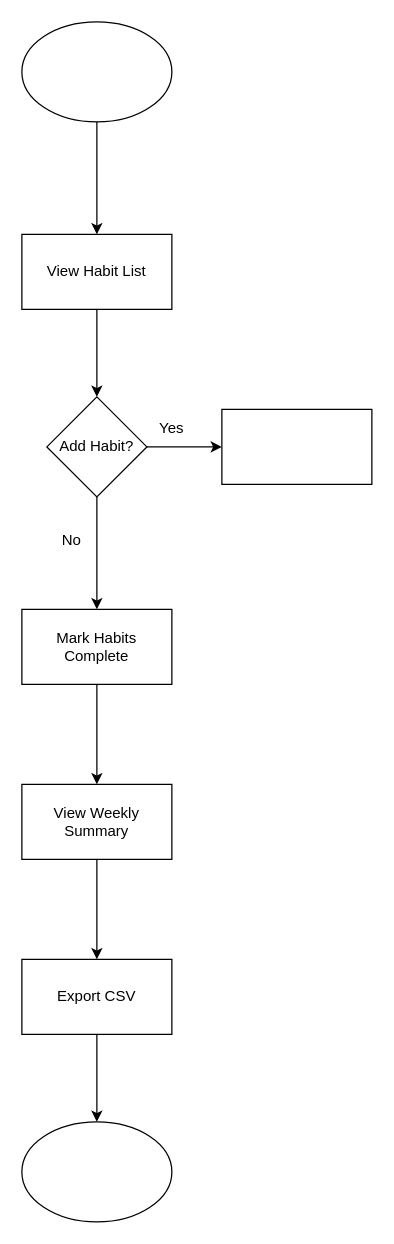
Image size: 394x1244. Some labels were removed from this diagram. Each missing label, with the box of its shape:
Create Habit Form: (221, 408, 372, 484)
End: (21, 1121, 172, 1222)
Open App: (21, 21, 172, 122)
